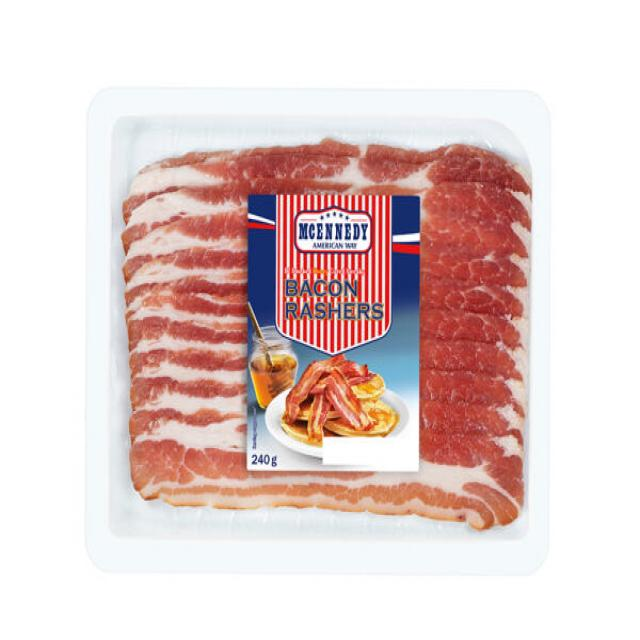bacon: (123, 142, 533, 530)
